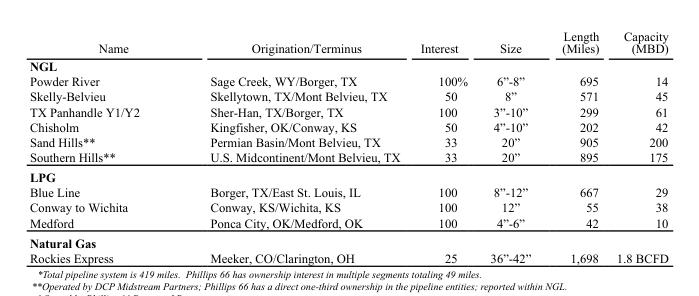table: (28, 28, 667, 264)
table column: (174, 28, 409, 264), (28, 28, 174, 264), (409, 28, 478, 264), (478, 28, 545, 264), (545, 28, 607, 264), (607, 28, 667, 264)
table column header: (28, 28, 667, 56)
table projected row header: (28, 166, 667, 184), (28, 232, 667, 250), (28, 56, 667, 73)
table row: (28, 28, 667, 56), (28, 166, 667, 184), (28, 214, 667, 232), (28, 232, 667, 250), (28, 56, 667, 73), (28, 149, 667, 166), (28, 133, 667, 149), (28, 73, 667, 88), (28, 88, 667, 103), (28, 103, 667, 118), (28, 118, 667, 133), (28, 184, 667, 199), (28, 199, 667, 214), (28, 250, 667, 264)
